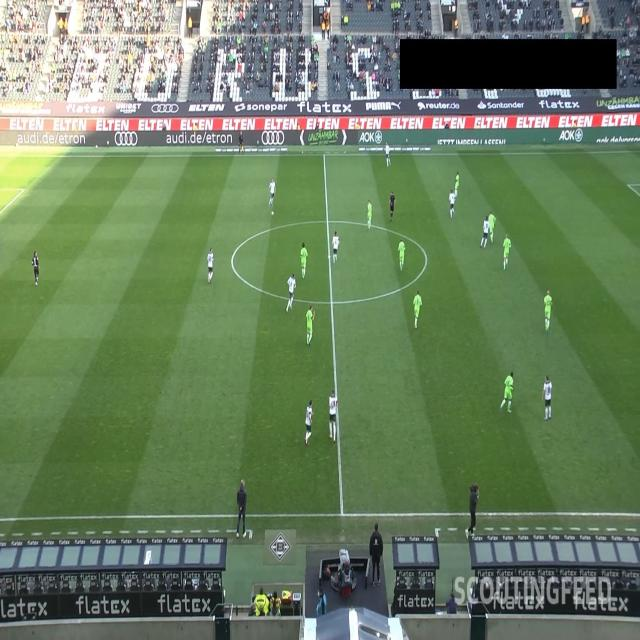ball: (271, 210, 274, 216)
